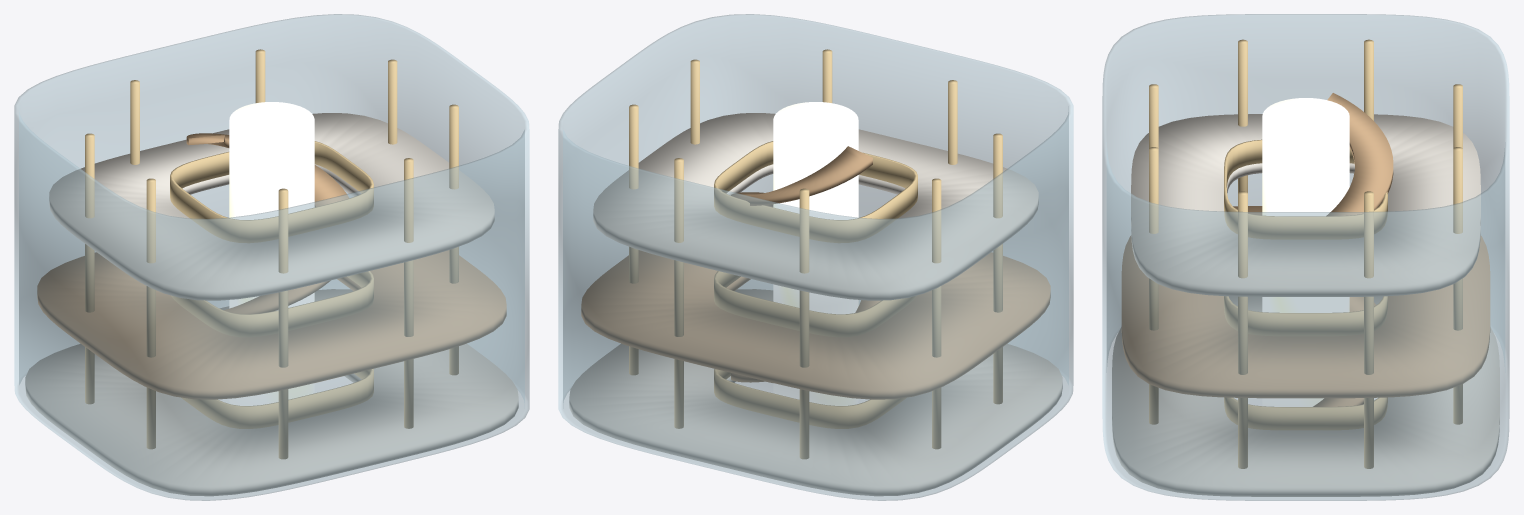
File: mod_02_interior_core.glb
3 views of the same model, side by side, from view 1: azimuth 30°, elevation 25°; view 2: azimuth 150°, elevation 25°; view 3: azimuth 270°, elevation 25° (orthographic). The views are drawn at different scales.
Parts seen in each view (by area): view 1: mod_02_interior_core_QuantizedMesh; view 2: mod_02_interior_core_QuantizedMesh; view 3: mod_02_interior_core_QuantizedMesh.
Boxes of the visible parts, x1,y1,x2,y2 form: mod_02_interior_core_QuantizedMesh: (14, 14, 529, 500); mod_02_interior_core_QuantizedMesh: (558, 14, 1073, 500); mod_02_interior_core_QuantizedMesh: (1102, 14, 1509, 500).
Size of the model in its own units: 3.46 by 2.34 by 2.98.
